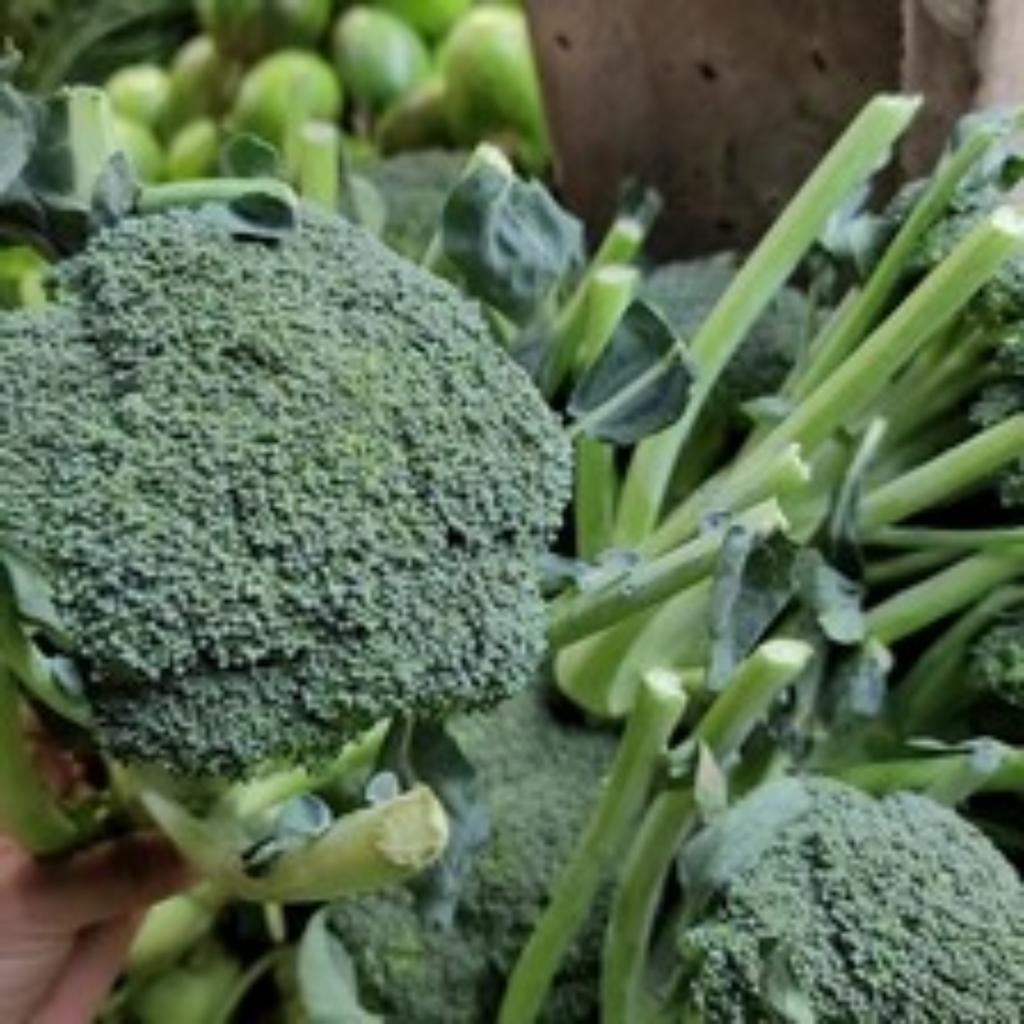Broccoli: (0, 212, 568, 773), (0, 214, 568, 773), (688, 784, 1024, 1024), (688, 786, 1024, 1024)
